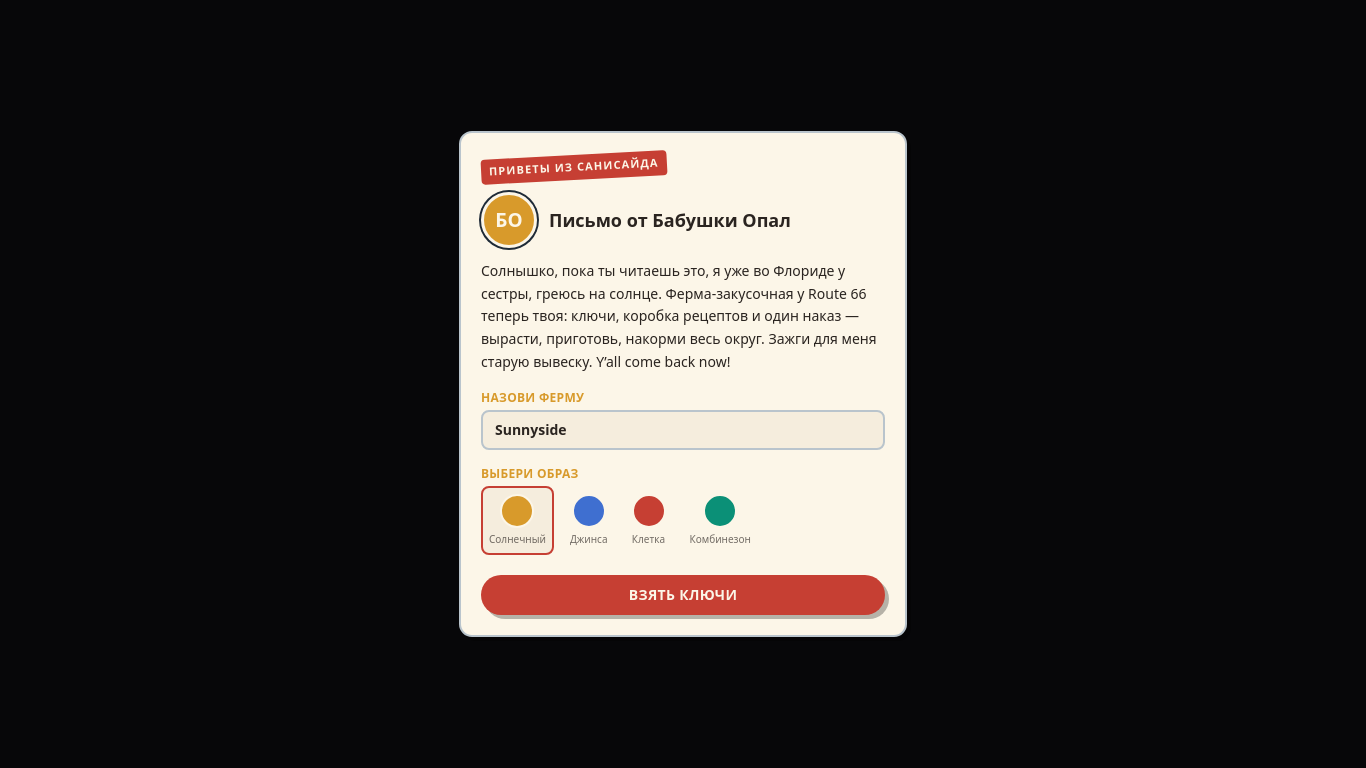
Test: LegacyLetter (§2.1/§3.7) › Begin запускает мини-неделю через хост
The image size is (1366, 768).
Click the button with test id "onboarding-begin".
click(683, 595)  # box [481,575,885,615]
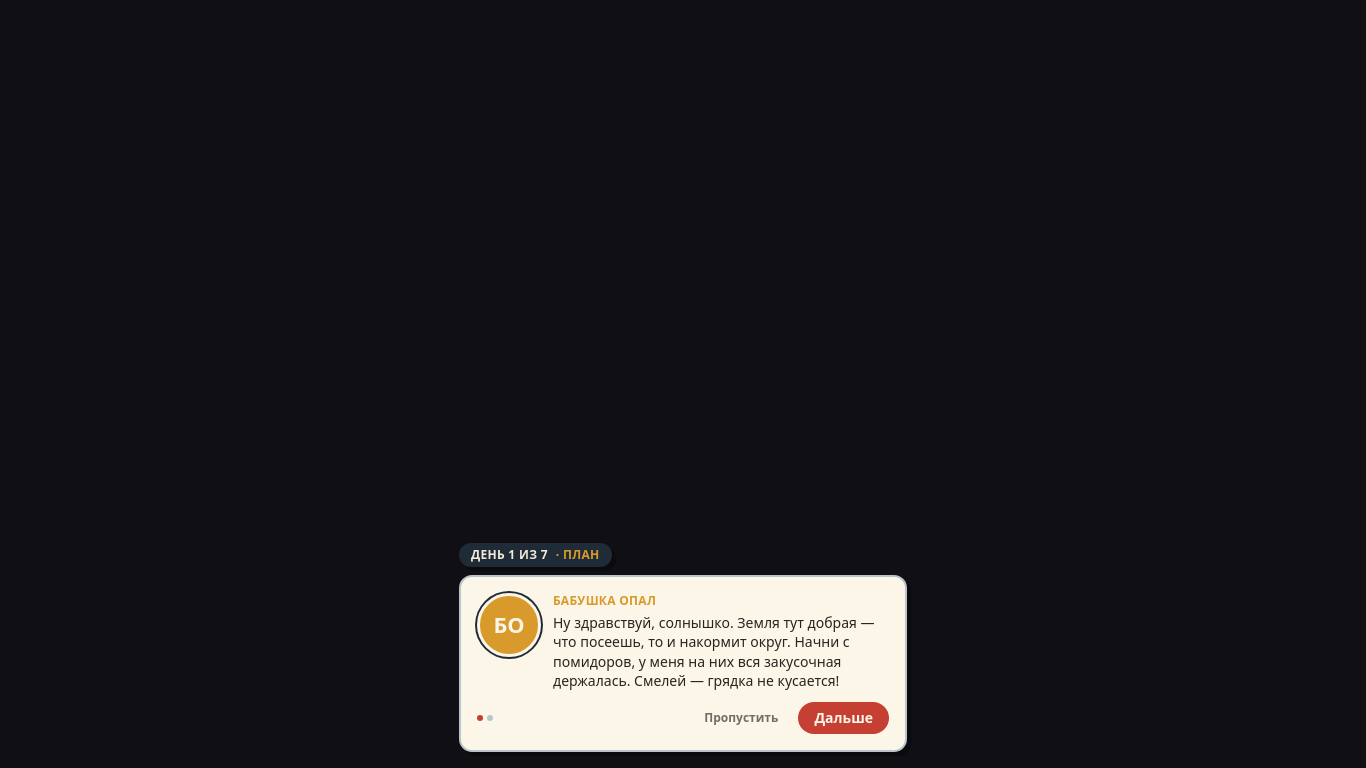
Expected: the element with test id "onboarding-miniweek" is shown, [459,543,907,752]
